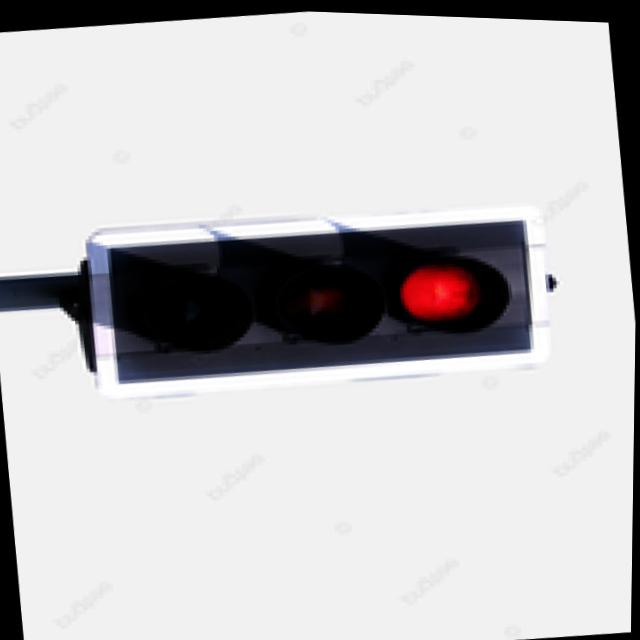red_light: (399, 226, 522, 371)
